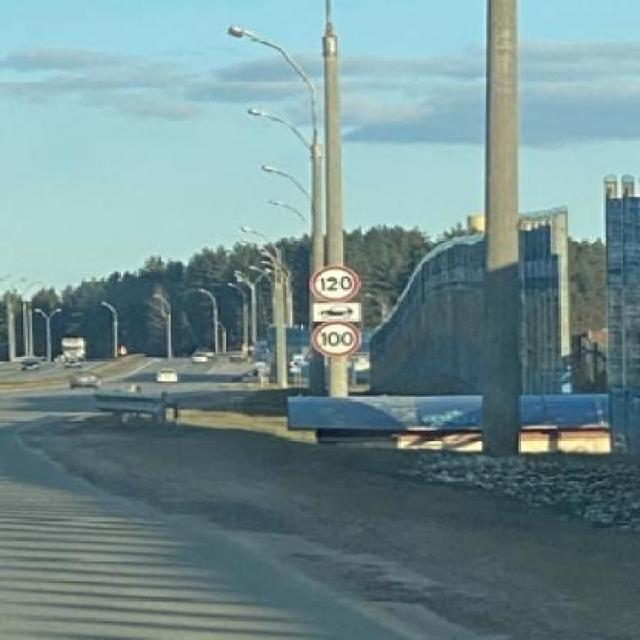forb_speed_over_100: (310, 317, 361, 355)
forb_speed_over_120: (308, 263, 360, 302)
